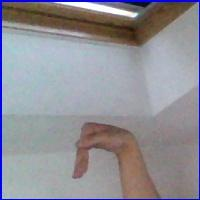del: (68, 119, 138, 186)
